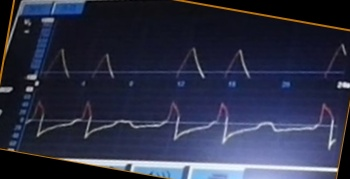Ineffective_effort Flow: (28, 98, 338, 151)
Ineffective_effort Volume: (45, 42, 347, 81)
